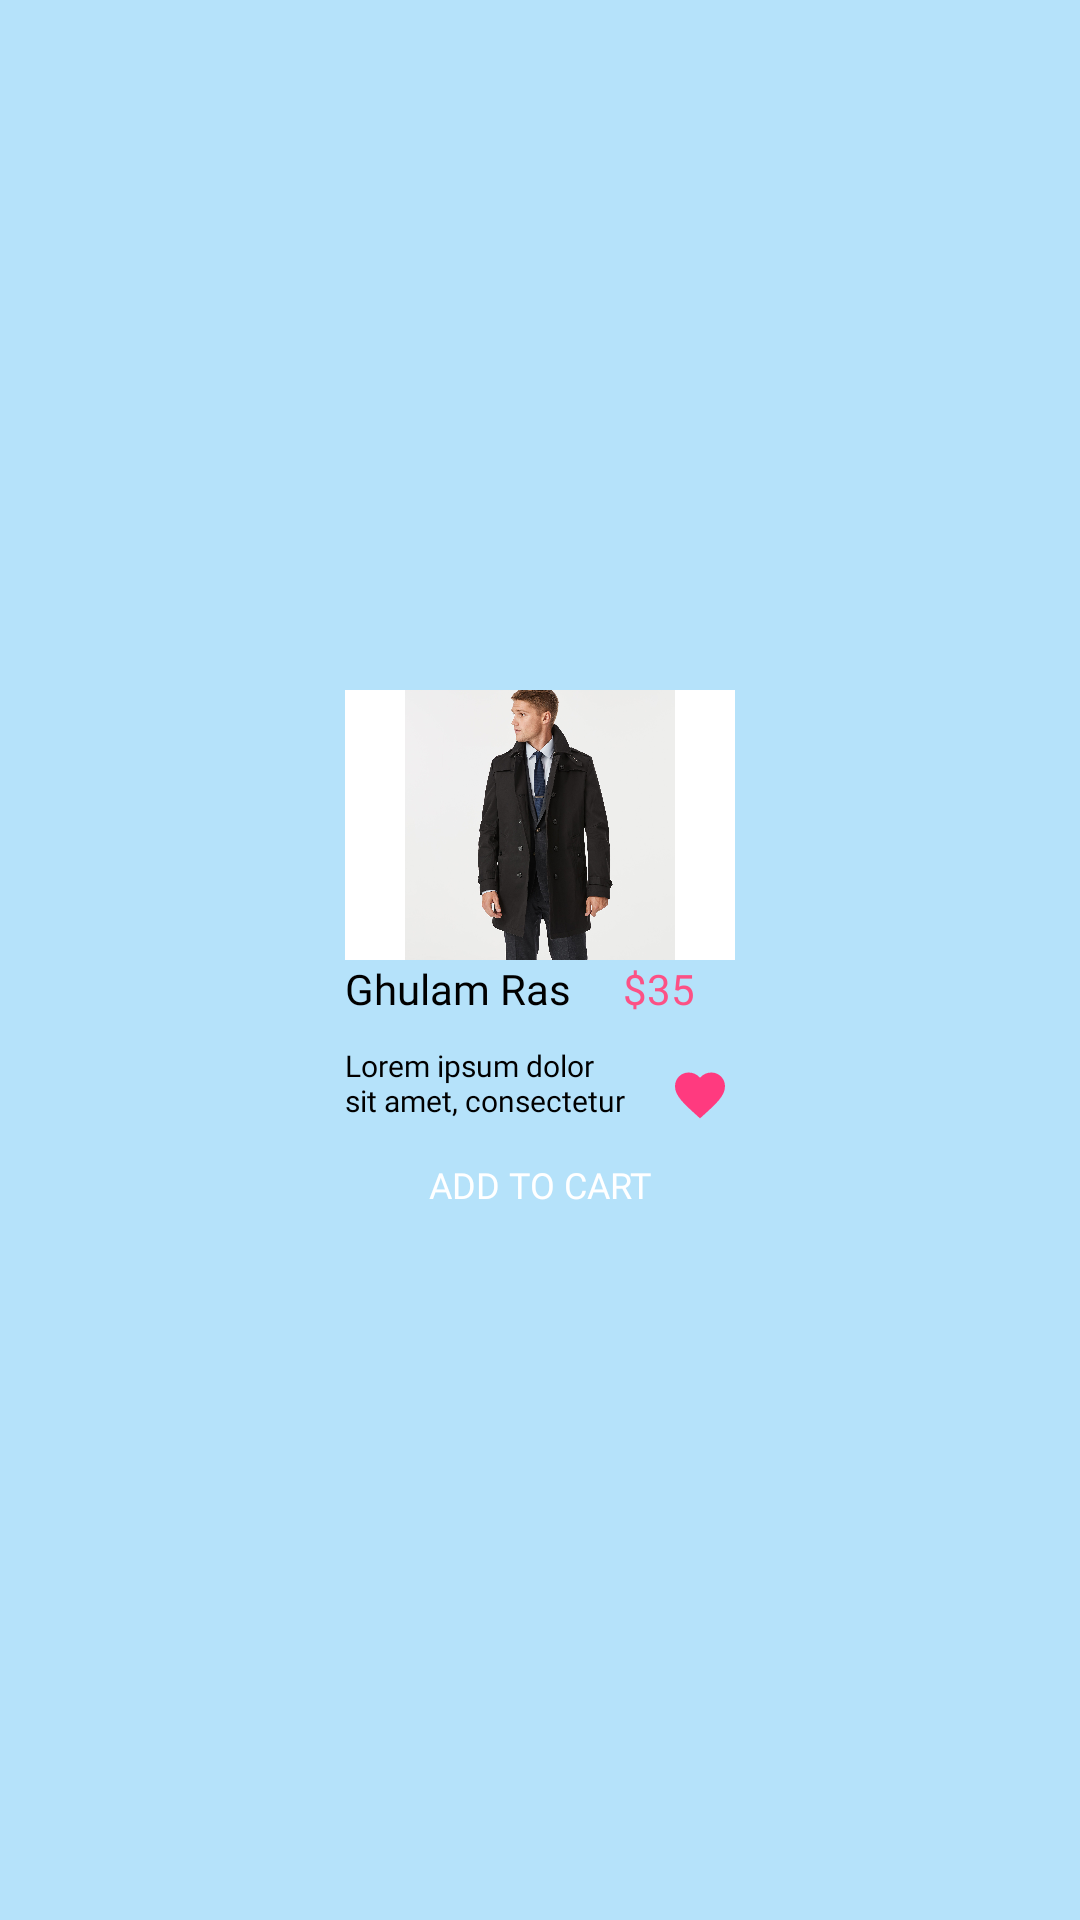

Point at icon controls on the screen. Image size 1080px x 1920px, points as point (x, y).
favourite: point (700, 1095)
